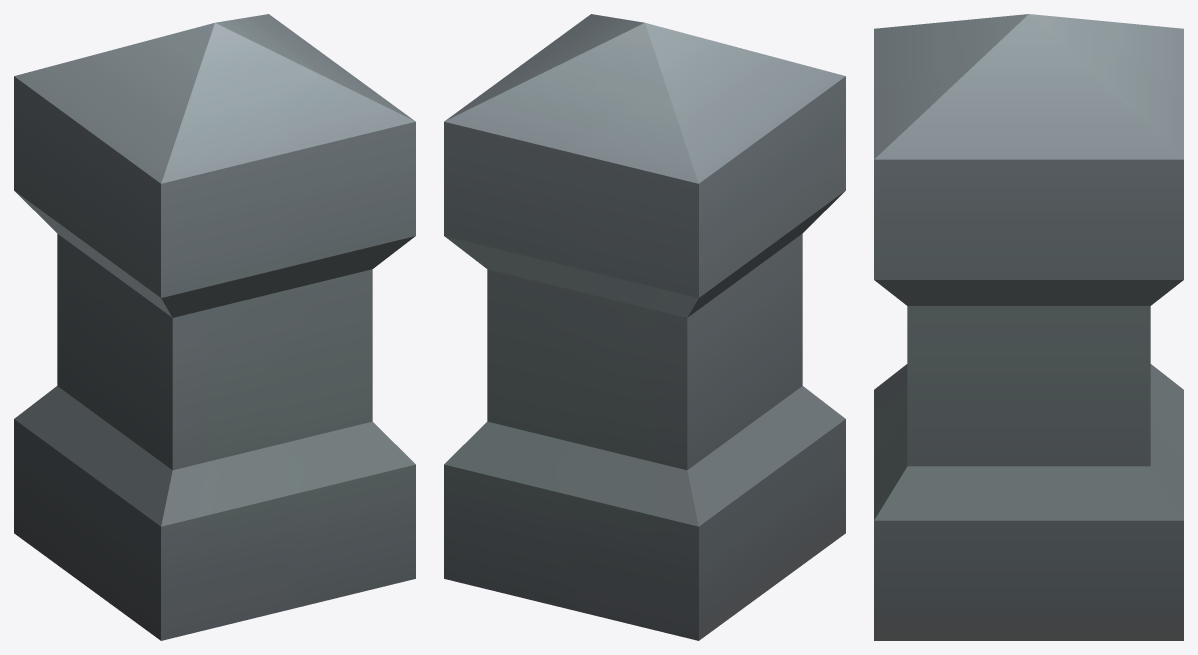
The model's file is column.glb.
The picture shows the model from 3 angles, left to right: view 1: azimuth 30°, elevation 25°; view 2: azimuth 150°, elevation 25°; view 3: azimuth 270°, elevation 25°; orthographic projection. The views are drawn at different scales.
Parts seen in each view (by area): view 1: column; view 2: column; view 3: column.
Boxes of the visible parts, x1,y1,x2,y2 form: column: (14, 14, 415, 640); column: (444, 14, 845, 640); column: (874, 14, 1183, 640).
Bounding box in the file's own units: 0.7 × 1.4 × 0.7.
Materials: 1 (1 with a texture image).
